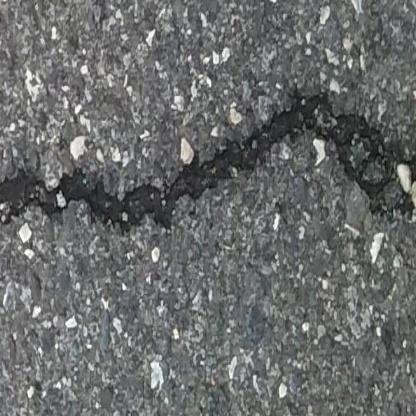Cracks: (0, 85, 416, 241)
